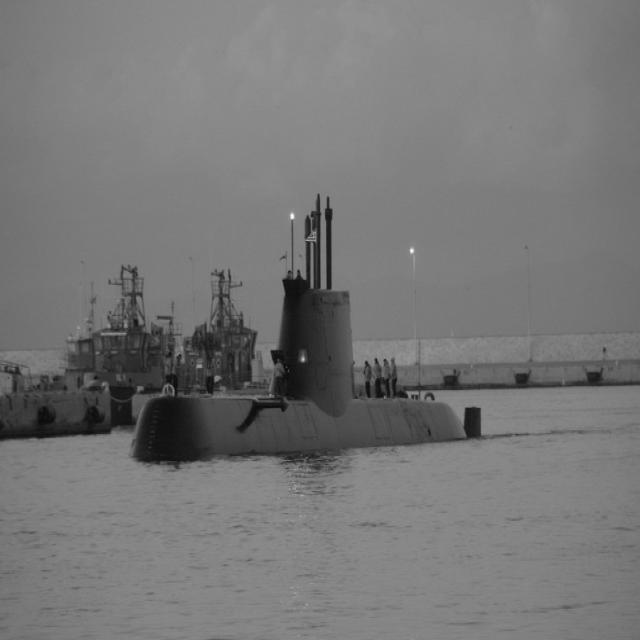submarine: (134, 191, 487, 468)
